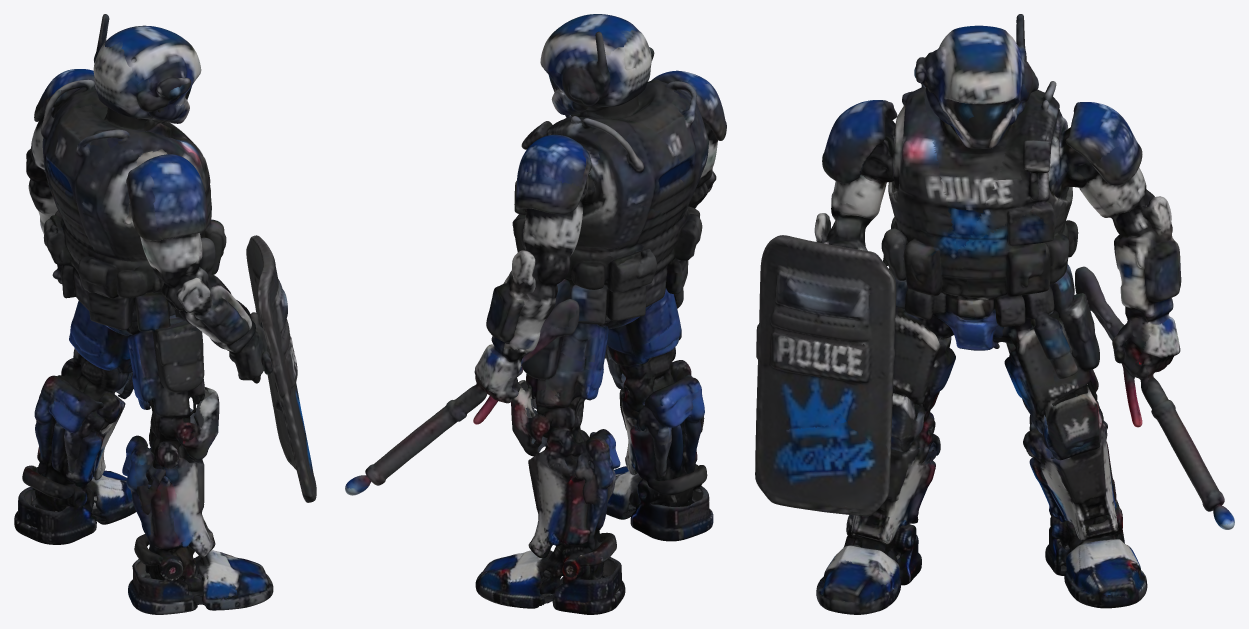
File: ROBOCOP.glb
The picture shows the model from 3 angles, left to right: view 1: azimuth 30°, elevation 25°; view 2: azimuth 150°, elevation 25°; view 3: azimuth 270°, elevation 25°; orthographic projection. The views are drawn at different scales.
Visible parts, largest first — view 1: tripo_node_f054fa26-e4dd-4b33-a41e-3b0e4c51995f; view 2: tripo_node_f054fa26-e4dd-4b33-a41e-3b0e4c51995f; view 3: tripo_node_f054fa26-e4dd-4b33-a41e-3b0e4c51995f.
Part boxes in pixels (x1=…): tripo_node_f054fa26-e4dd-4b33-a41e-3b0e4c51995f: x1=14, y1=14, x2=316, y2=614; tripo_node_f054fa26-e4dd-4b33-a41e-3b0e4c51995f: x1=345, y1=14, x2=726, y2=614; tripo_node_f054fa26-e4dd-4b33-a41e-3b0e4c51995f: x1=755, y1=14, x2=1234, y2=614.
Bounding box in the file's own units: 0.4253 × 1 × 0.7747.
Materials: 1 (1 with a texture image).
